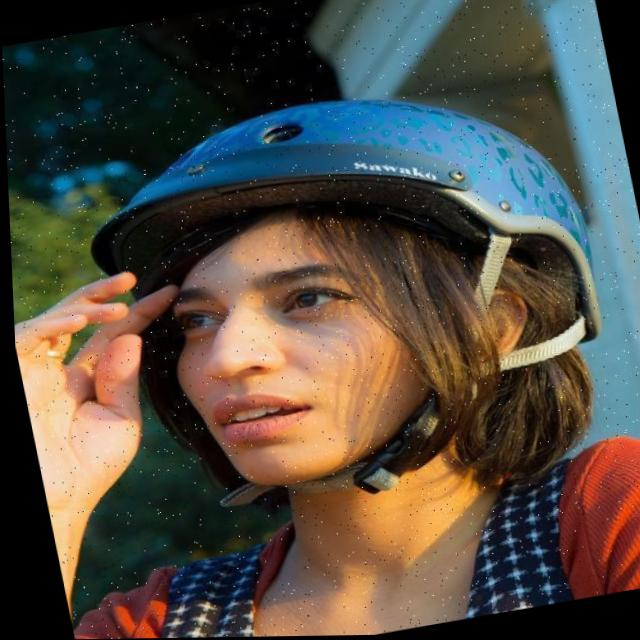helmet: (64, 61, 635, 551)
